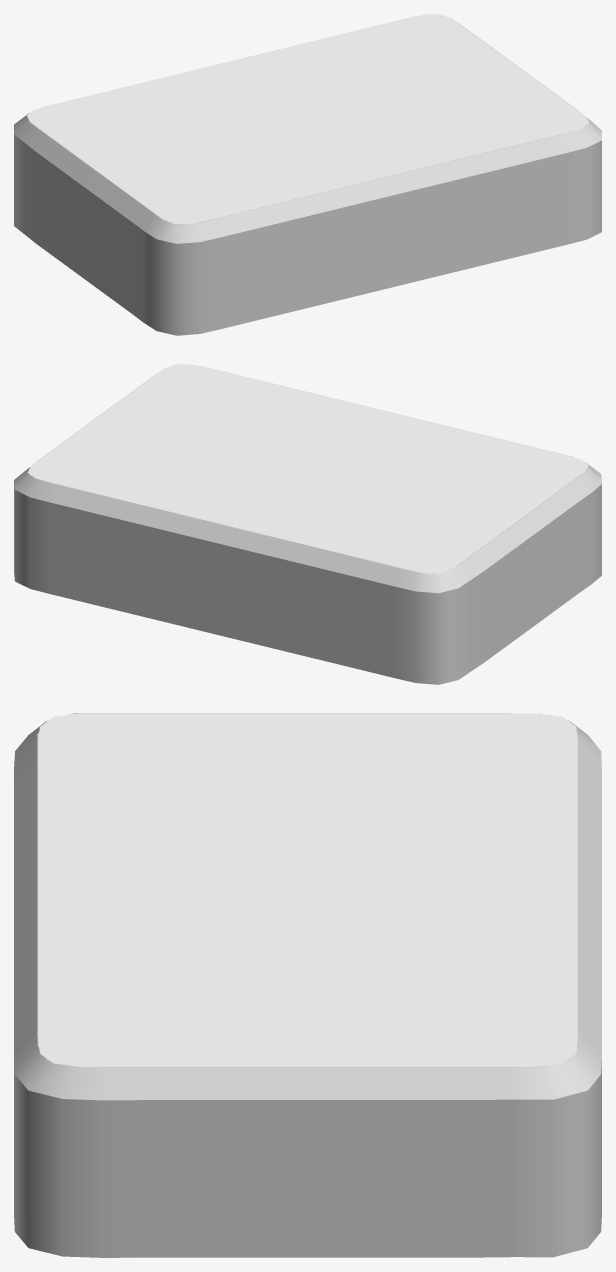
Rendered from mahjong-tile.fbx.
3 renders of one model, top to bottom at view 1: azimuth 30°, elevation 25°; view 2: azimuth 150°, elevation 25°; view 3: azimuth 270°, elevation 25°, orthographic. The views are drawn at different scales.
Parts seen in each view (by area): view 1: Mahjong Piece, Object Fill; view 2: Mahjong Piece, Object Fill; view 3: Object Fill, Mahjong Piece.
Part boxes in pixels (x1,y1,x2,y2): Mahjong Piece: (14,16,601,335); Object Fill: (26,14,588,223); Mahjong Piece: (14,364,601,684); Object Fill: (27,364,588,573); Object Fill: (38,713,577,1066); Mahjong Piece: (14,713,601,1257).
Size of the model in its own units: 180 by 40.36 by 119.
